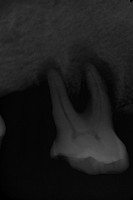Dental Caries: (37, 42, 117, 114)
